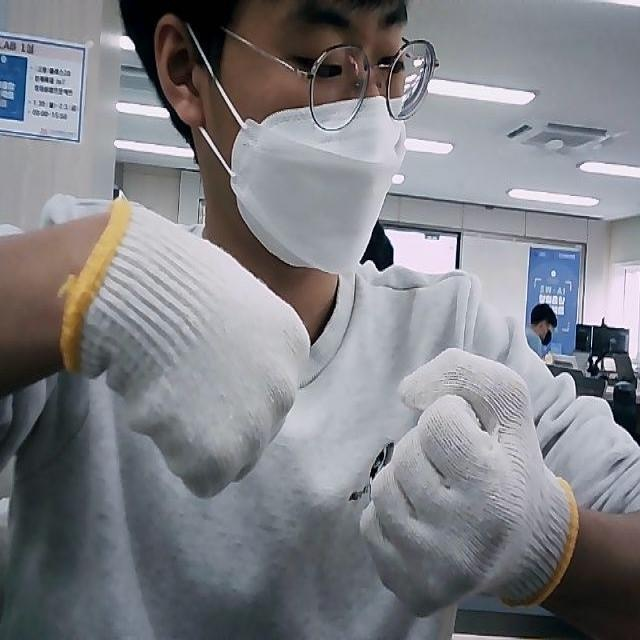Guantes: (62, 199, 313, 495), (360, 348, 578, 616)
